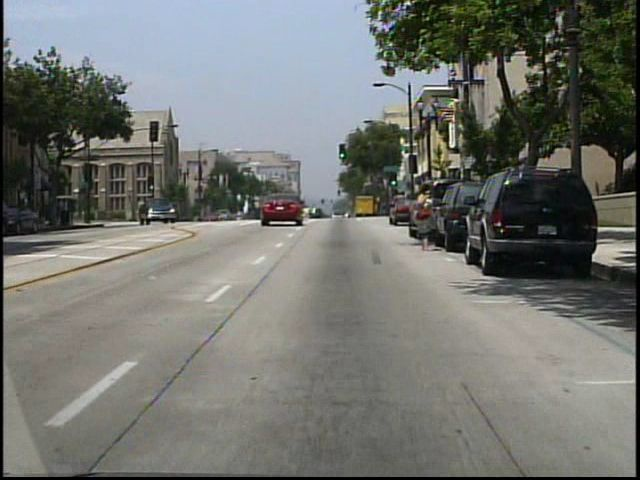person: (411, 182, 444, 252)
